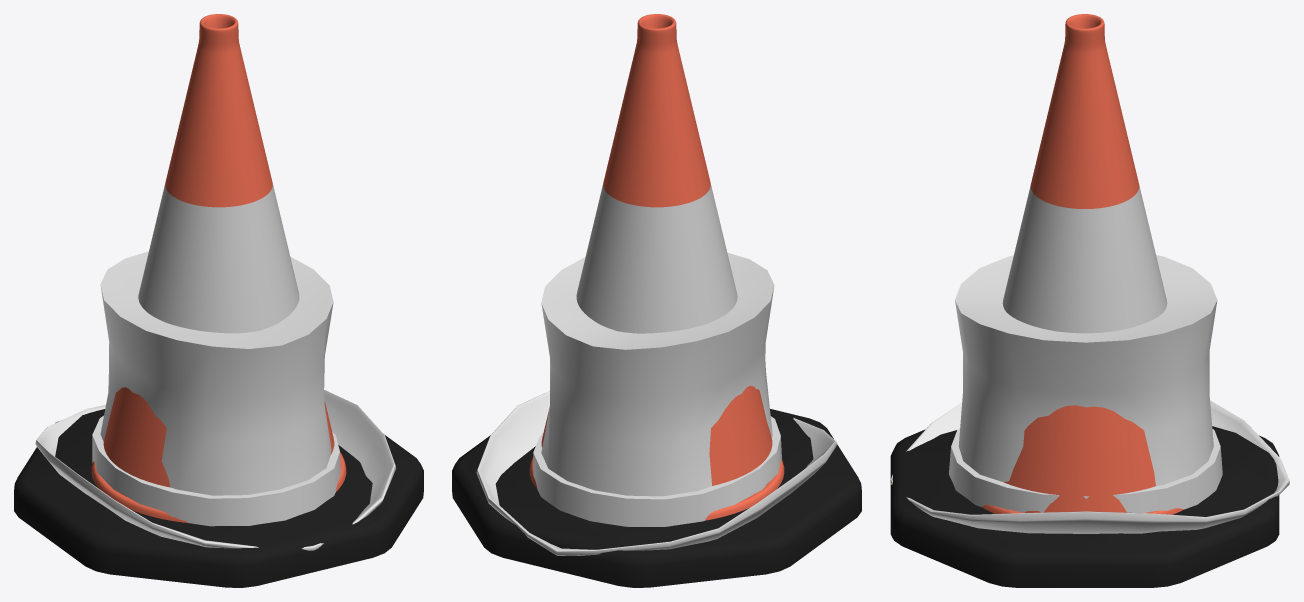
The picture shows the model from 3 angles, left to right: view 1: azimuth 30°, elevation 25°; view 2: azimuth 150°, elevation 25°; view 3: azimuth 270°, elevation 25°; orthographic projection.
Parts seen in each view (by area): view 1: TopHat, Circle, Cube; view 2: TopHat, Circle, Cube; view 3: TopHat, Circle, Cube.
Part boxes in pixels (box(x1,y1,x2,y2)): TopHat: box(35, 251, 396, 550); Circle: box(91, 14, 346, 522); Cube: box(14, 409, 423, 587); TopHat: box(476, 252, 837, 555); Circle: box(529, 14, 784, 520); Cube: box(452, 409, 861, 587); TopHat: box(890, 255, 1289, 533); Circle: box(982, 14, 1183, 514); Cube: box(890, 426, 1279, 587).
Bounding box in the file's own units: 8 × 11 × 8.22.
